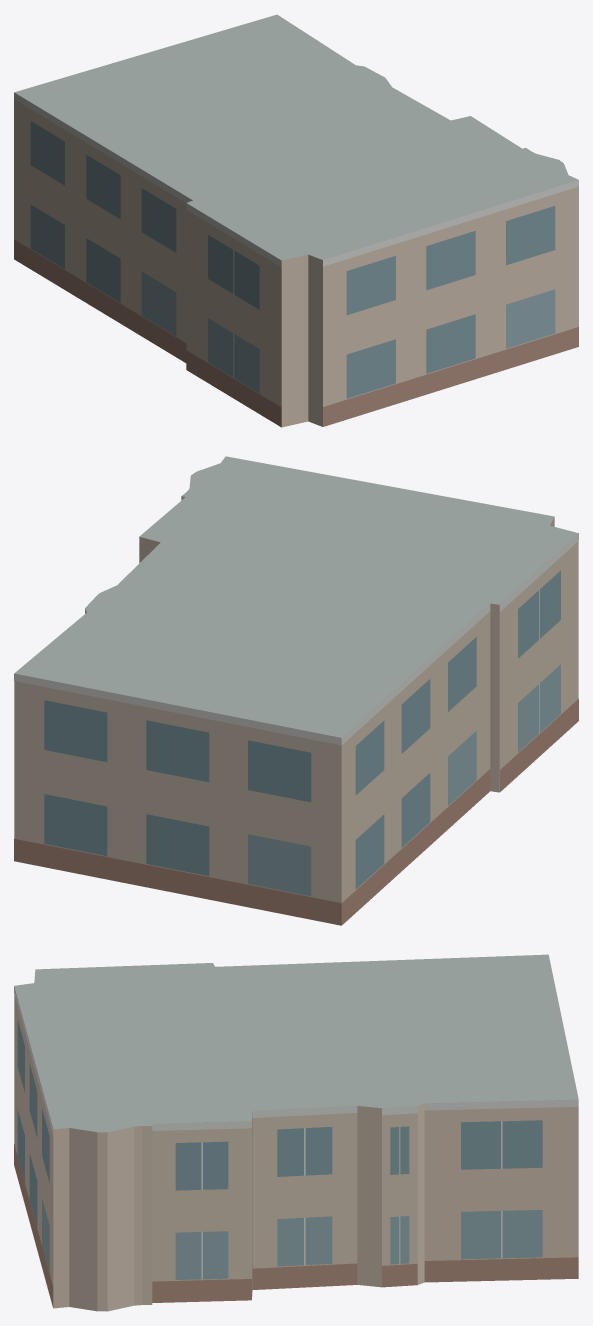
File: survey-upis-32619316.glb
The picture shows the model from 3 angles, top to bottom: view 1: azimuth 30°, elevation 25°; view 2: azimuth 150°, elevation 25°; view 3: azimuth 270°, elevation 25°; orthographic projection. The views are drawn at different scales.
Visible parts, largest first — view 1: survey-upis-32619316.tmp; view 2: survey-upis-32619316.tmp; view 3: survey-upis-32619316.tmp.
Part boxes in pixels (x1,y1,x2,y2): survey-upis-32619316.tmp: [14, 14, 578, 427]; survey-upis-32619316.tmp: [14, 456, 578, 925]; survey-upis-32619316.tmp: [14, 954, 578, 1311].
Size of the model in its own units: 13 by 6.1 by 17.44.
